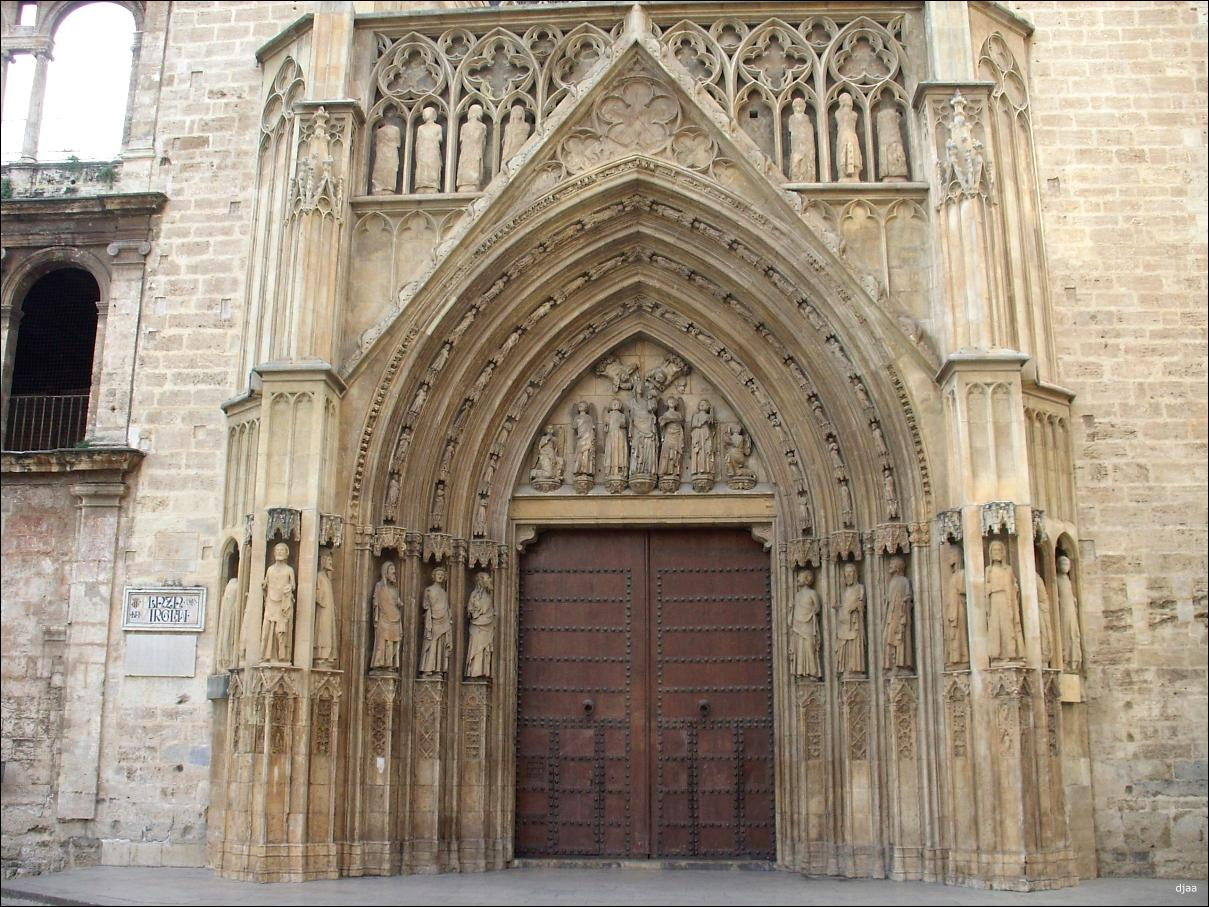arco-apuntado: (352, 151, 933, 502)
